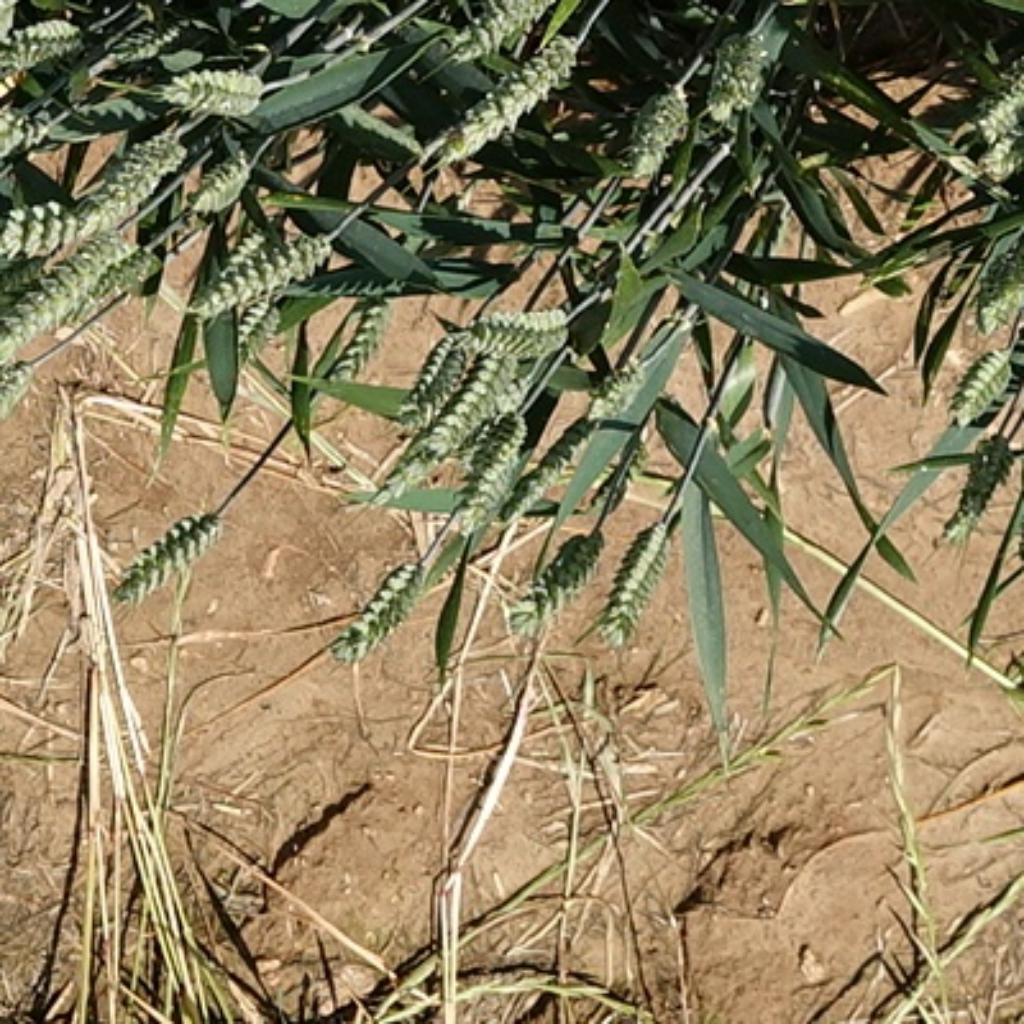0-0: (435, 31, 584, 174), (0, 224, 133, 384), (495, 517, 609, 640), (179, 232, 332, 320), (512, 414, 609, 540), (108, 505, 226, 607), (326, 559, 431, 672), (419, 348, 514, 468), (79, 120, 184, 225), (399, 320, 478, 437), (204, 289, 294, 391), (601, 517, 680, 632), (437, 0, 573, 66), (448, 424, 535, 527), (322, 294, 407, 399), (696, 15, 778, 122), (616, 79, 696, 179), (450, 299, 581, 360), (945, 432, 1016, 537), (158, 56, 273, 120), (586, 337, 665, 424), (0, 189, 96, 260), (947, 332, 1018, 419), (94, 15, 189, 79), (88, 245, 166, 312), (7, 10, 92, 71), (962, 69, 1024, 135), (975, 248, 1021, 335), (197, 148, 253, 212), (972, 128, 1024, 192)
